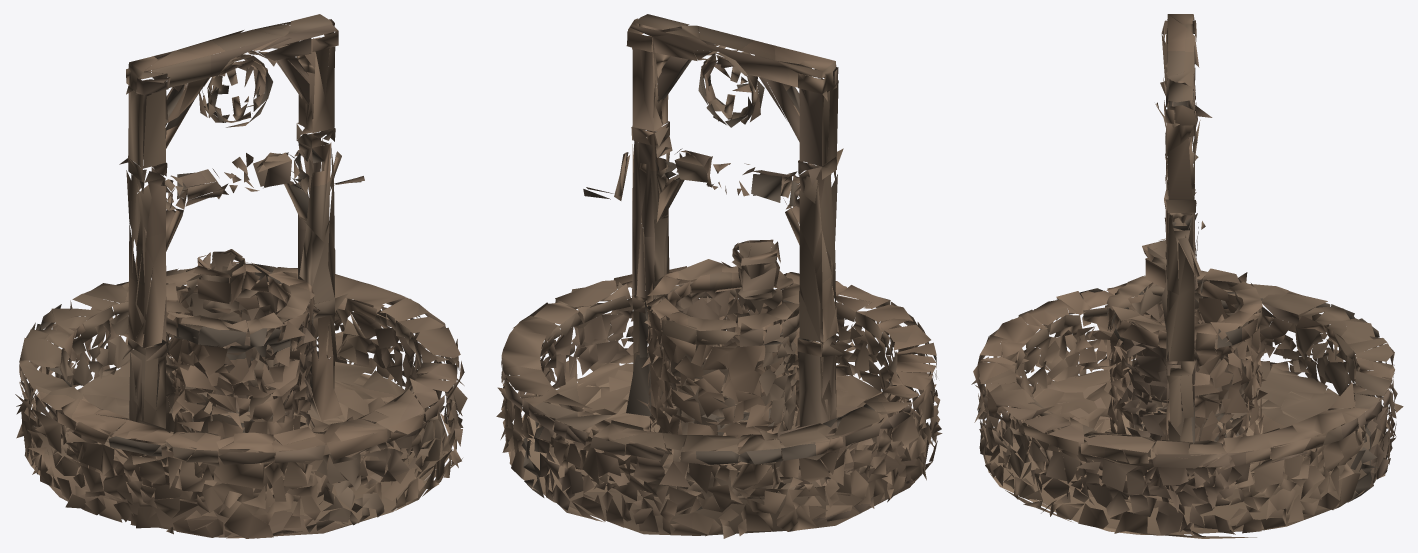
Rendered from frontier_well.glb.
3 views of the same model, side by side, from view 1: azimuth 30°, elevation 25°; view 2: azimuth 150°, elevation 25°; view 3: azimuth 270°, elevation 25° (orthographic). The views are drawn at different scales.
Parts seen in each view (by area): view 1: LO.001; view 2: LO.001; view 3: LO.001.
Boxes of the visible parts, bbox=[...] form: LO.001: bbox=[15, 14, 467, 538]; LO.001: bbox=[496, 14, 942, 538]; LO.001: bbox=[971, 14, 1403, 538].
Size of the model in its own units: 6.07 by 6.09 by 6.04.
Materials: 1 (1 with a texture image).
